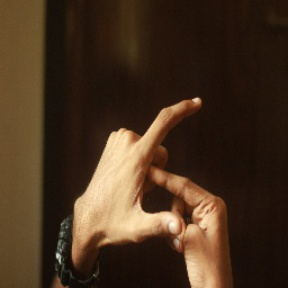E: (132, 95, 219, 248)
